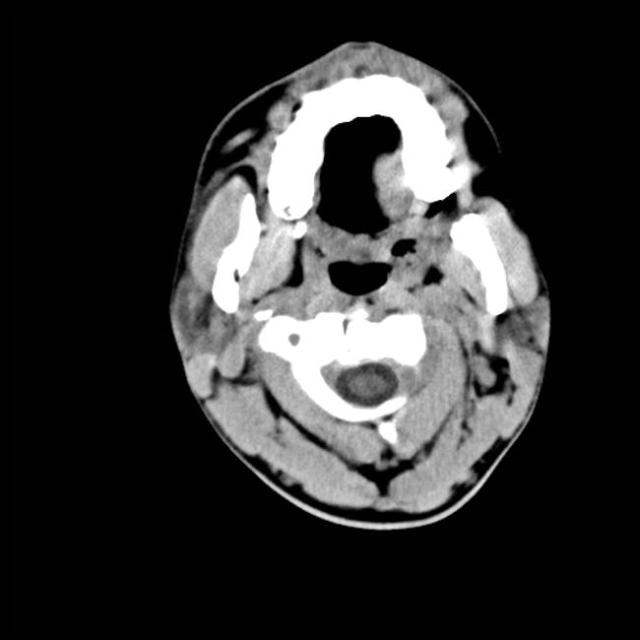lesion: (165, 39, 556, 529)
